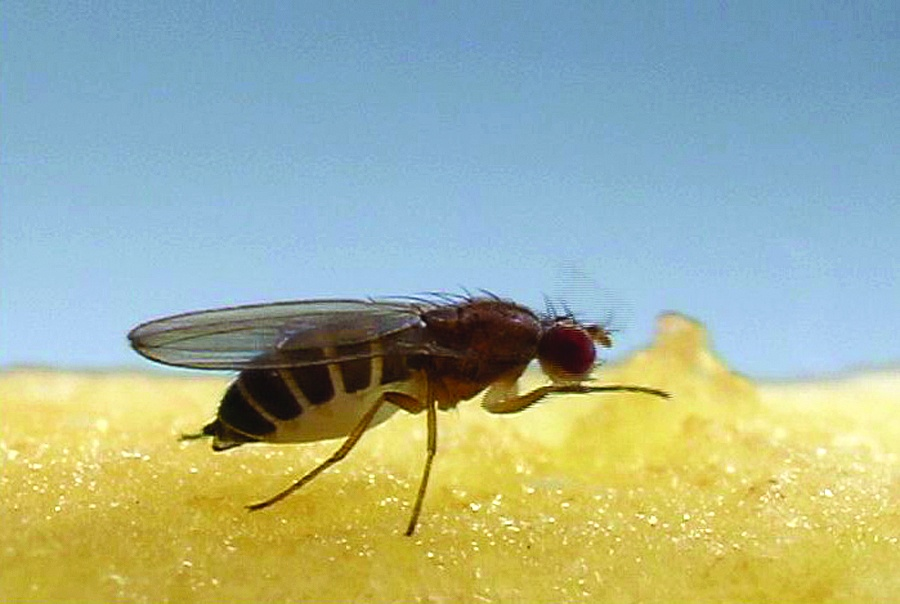Fruit fly: (143, 245, 616, 512)
